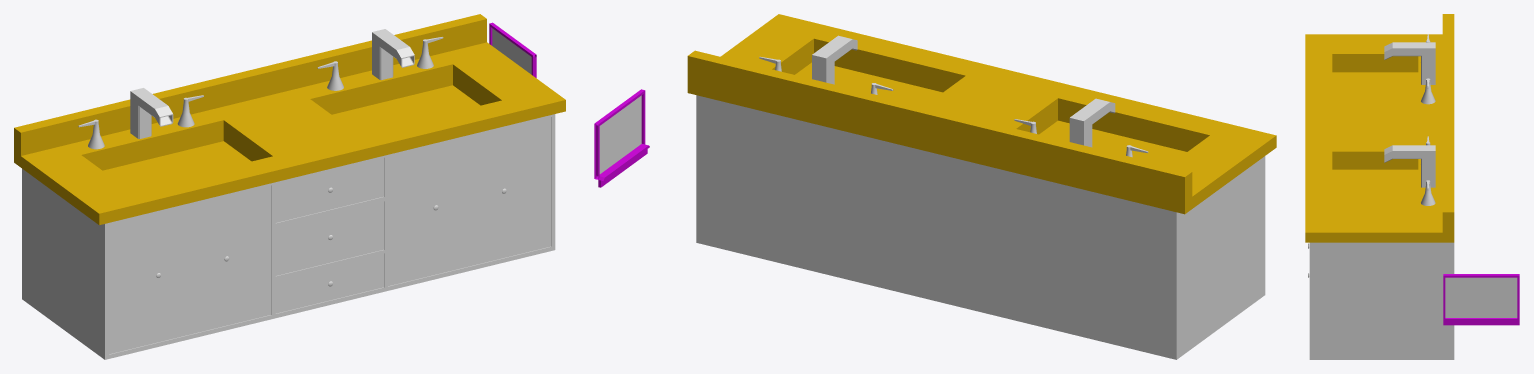
File: Vanity.fbx
3 views of the same model, side by side, from view 1: azimuth 30°, elevation 25°; view 2: azimuth 150°, elevation 25°; view 3: azimuth 270°, elevation 25° (orthographic). The views are drawn at different scales.
Visible parts, largest first — view 1: Cube, Cube.029, Cube.031, SceneYBathroom.002; view 2: Cube, SceneYBathroom.002, Cube.029, Cube.031; view 3: Cube, SceneYBathroom.002, Cube.029, Cube.031, Cylinder.029, Cylinder.031.
Part boxes in pixels (<box>): Cube: <box>14,14,565,359</box>; Cube.029: <box>130,88,173,138</box>; Cube.031: <box>372,29,414,80</box>; SceneYBathroom.002: <box>489,22,536,77</box>; Cube: <box>687,14,1276,359</box>; SceneYBathroom.002: <box>594,89,649,187</box>; Cube.029: <box>1069,98,1115,147</box>; Cube.031: <box>812,35,857,84</box>; Cube: <box>1305,14,1454,359</box>; SceneYBathroom.002: <box>1443,274,1519,325</box>; Cube.029: <box>1384,42,1435,84</box>; Cube.031: <box>1384,145,1435,187</box>; Cylinder.029: <box>1421,78,1435,104</box>; Cylinder.031: <box>1421,180,1435,205</box>.
Size of the model in its own units: 721 by 256 by 297.
